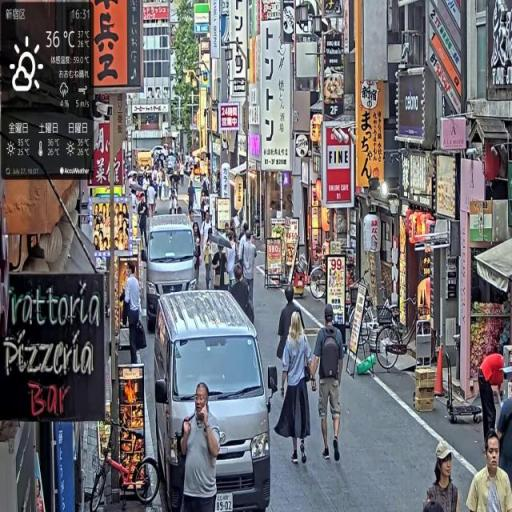person: (276, 311, 318, 466), (180, 379, 223, 512), (310, 305, 346, 463), (466, 432, 512, 512), (423, 442, 463, 512), (123, 263, 146, 367), (240, 226, 258, 312), (230, 264, 254, 323)
